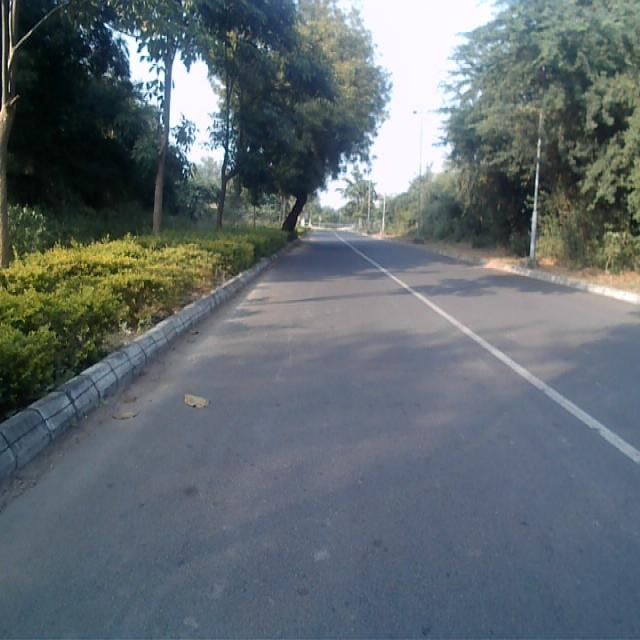lane: (0, 236, 640, 640)
